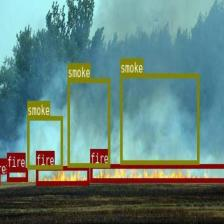fire: (90, 164, 224, 181), (36, 166, 89, 184), (7, 167, 27, 181)
smoke: (120, 73, 198, 164), (67, 78, 110, 166), (27, 116, 63, 169)
